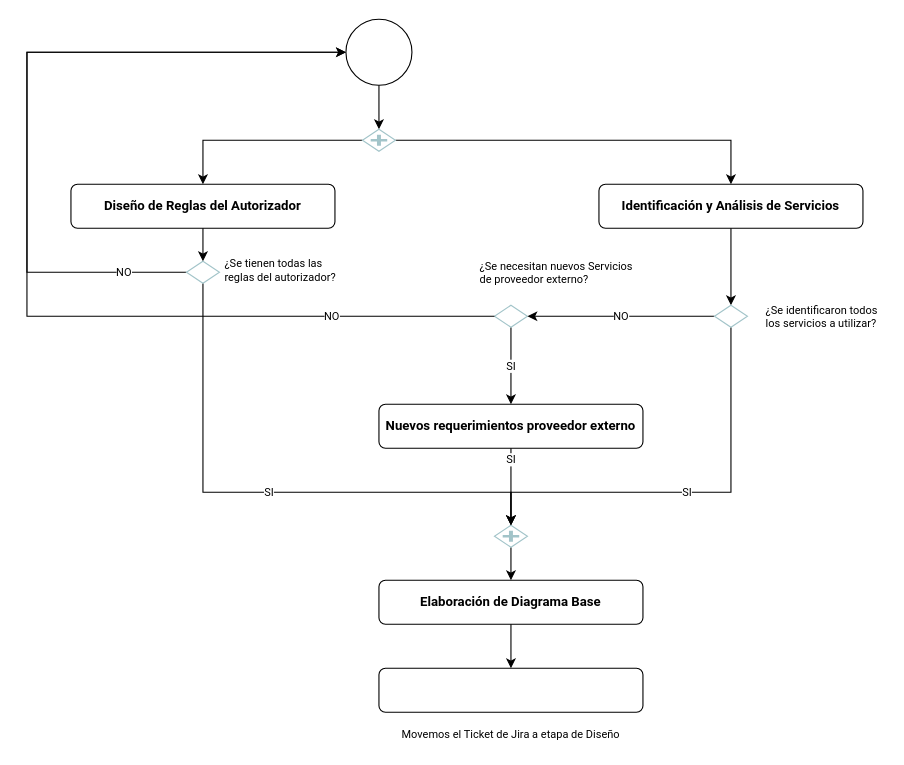
This 904x765 diagram has some shape labels left out. Here are the shapes that lost their labels. From the top down, the centre of each, then its label:
At pixel 378 51: "INICIO".
At pixel 510 689: "Pasamos a etapa de DISEÑO".
